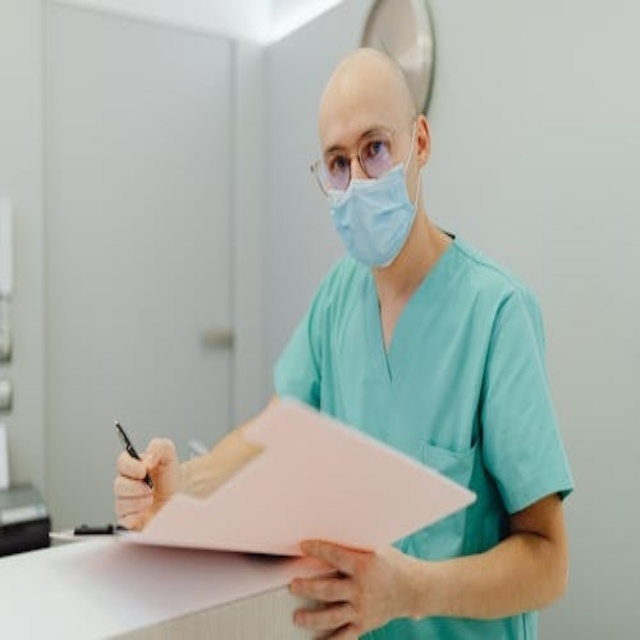Gafas: (311, 119, 417, 194)
Mascara: (322, 123, 421, 269)
Sin_guantes: (282, 536, 413, 640), (113, 435, 179, 534)
